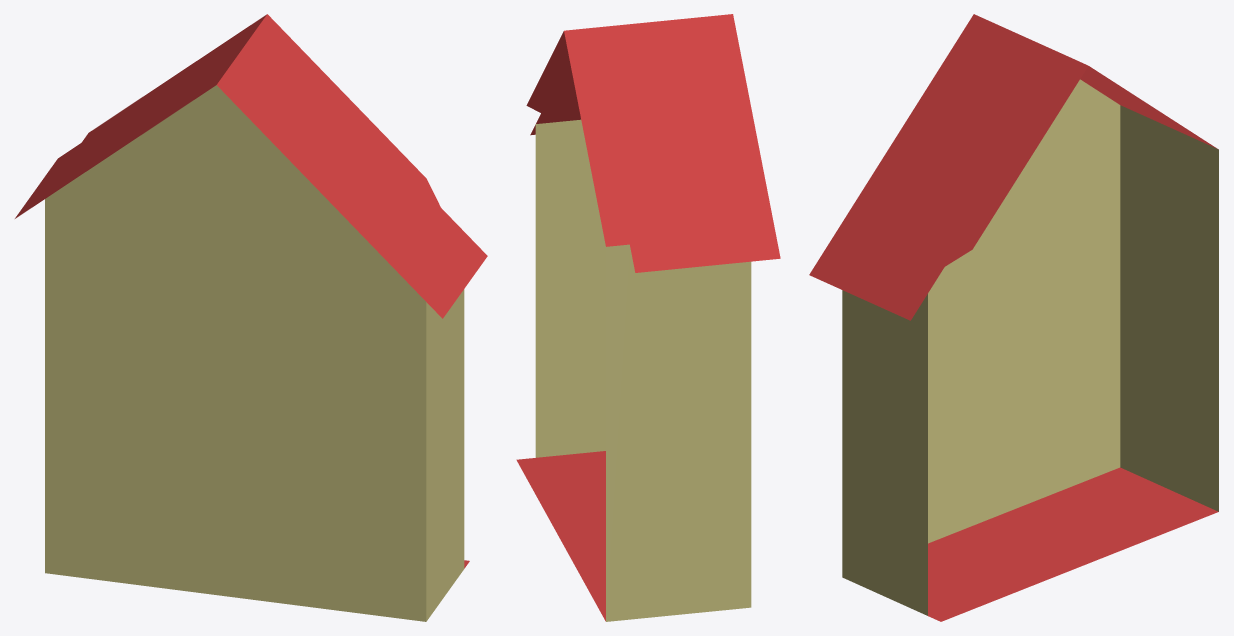
3 renders of one model, left to right at view 1: azimuth 30°, elevation 25°; view 2: azimuth 150°, elevation 25°; view 3: azimuth 270°, elevation 25°, orthographic. The views are drawn at different scales.
Size of the model in its own units: 8.52 by 8.73 by 11.67.
